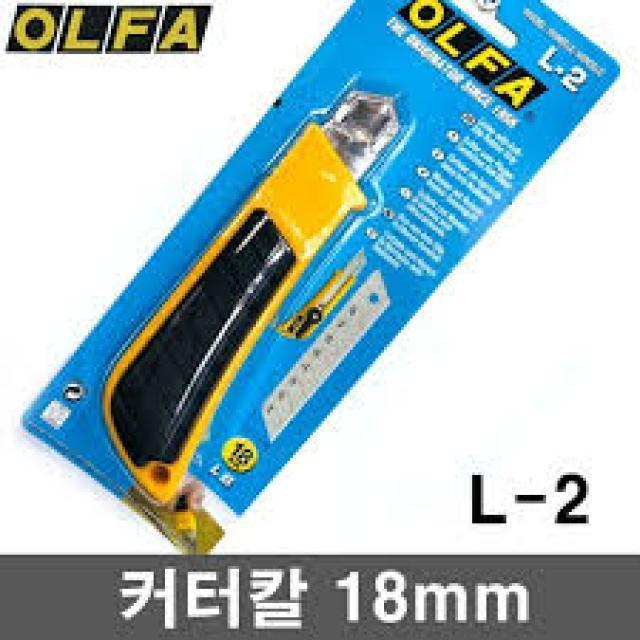cutter: (87, 80, 413, 512)
